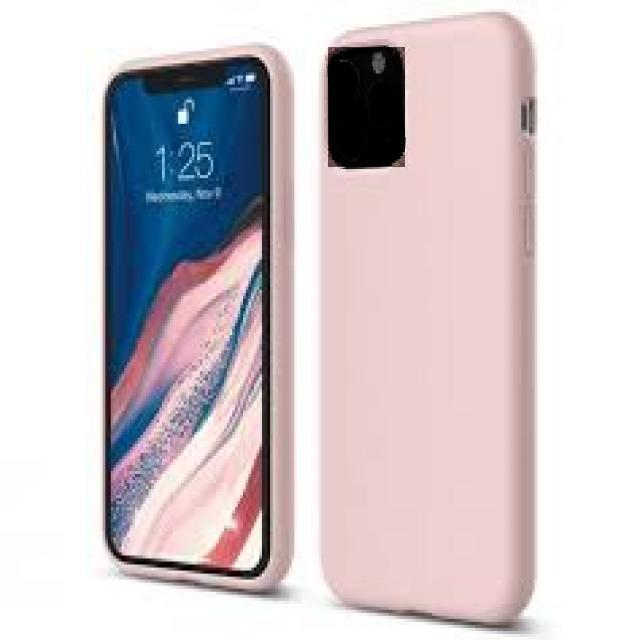phone: (312, 7, 545, 629), (94, 38, 302, 600)
